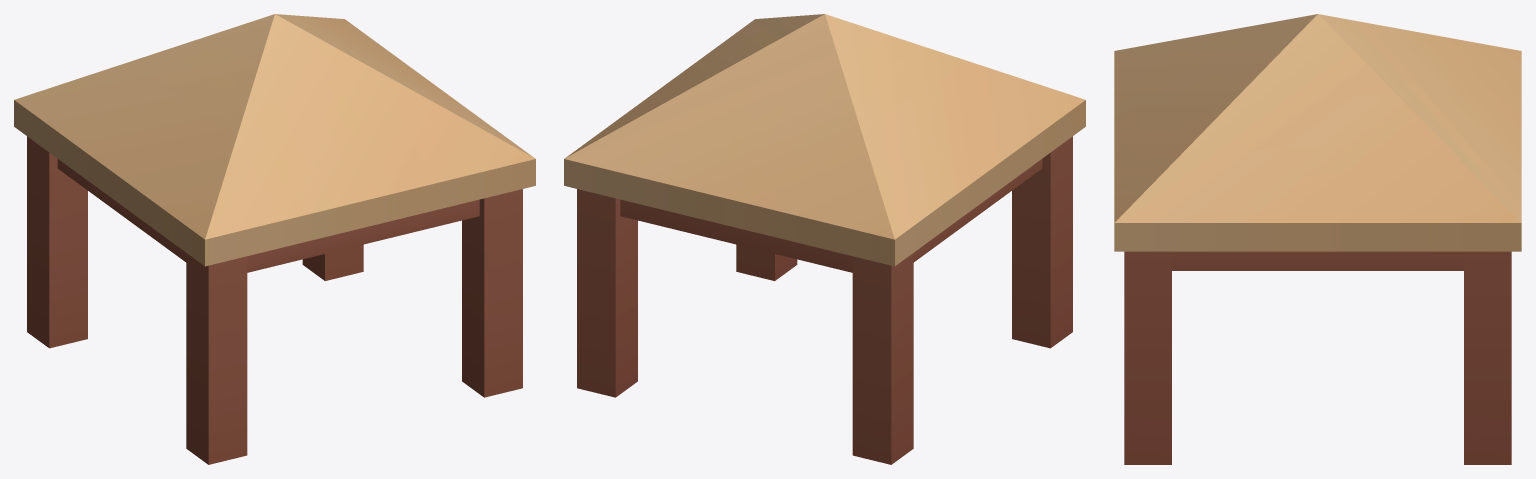
Rendered from tent.glb.
3 views of the same model, side by side, from view 1: azimuth 30°, elevation 25°; view 2: azimuth 150°, elevation 25°; view 3: azimuth 270°, elevation 25° (orthographic). The views are drawn at different scales.
Visible parts, largest first — view 1: tent; view 2: tent; view 3: tent.
Part boxes in pixels (<box>): tent: <box>14,14,535,464</box>; tent: <box>564,14,1085,464</box>; tent: <box>1114,14,1521,464</box>.
Bounding box in the file's own units: 0.516 × 0.516 × 0.516.
Materials: 1 (1 with a texture image).
